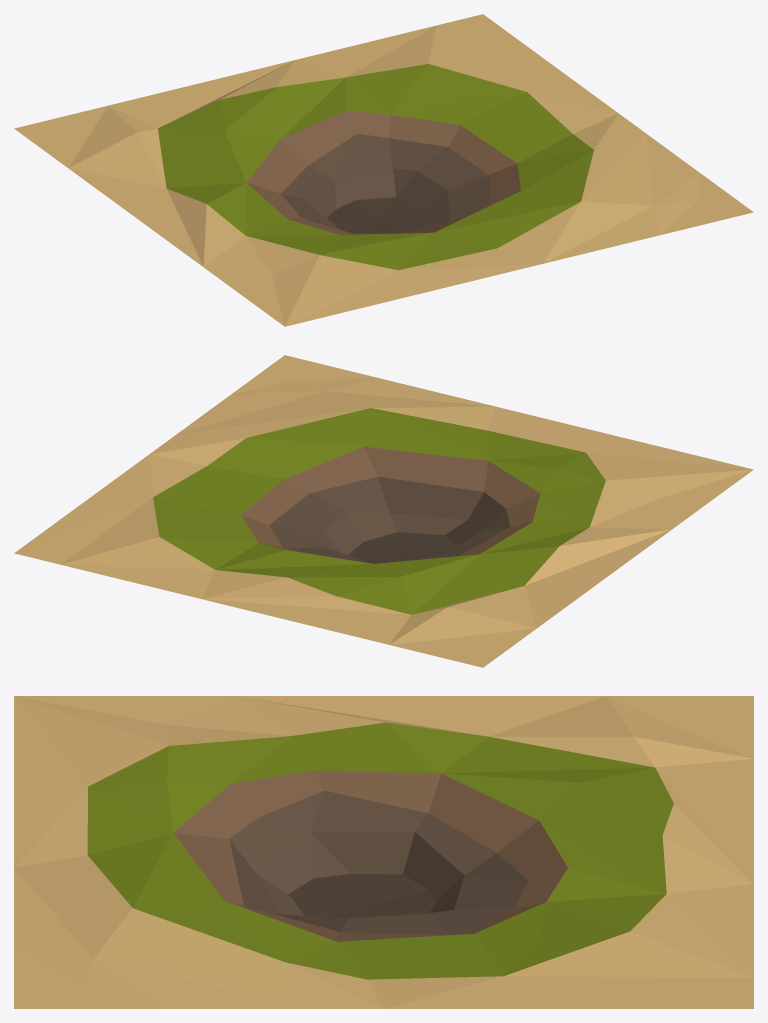
Rendered from TB_D_Env_Tile_Oasis_B.FBX.
3 views of the same model, one above another, from view 1: azimuth 30°, elevation 25°; view 2: azimuth 150°, elevation 25°; view 3: azimuth 270°, elevation 25° (orthographic). The views are drawn at different scales.
Parts seen in each view (by area): view 1: TB_D_Env_Tile_Oasis_B; view 2: TB_D_Env_Tile_Oasis_B; view 3: TB_D_Env_Tile_Oasis_B.
Boxes of the visible parts, bbox=[...] form: TB_D_Env_Tile_Oasis_B: bbox=[14, 14, 753, 326]; TB_D_Env_Tile_Oasis_B: bbox=[14, 355, 753, 667]; TB_D_Env_Tile_Oasis_B: bbox=[14, 696, 753, 1008].
Bounding box in the file's own units: 20 × 2.24 × 20.
